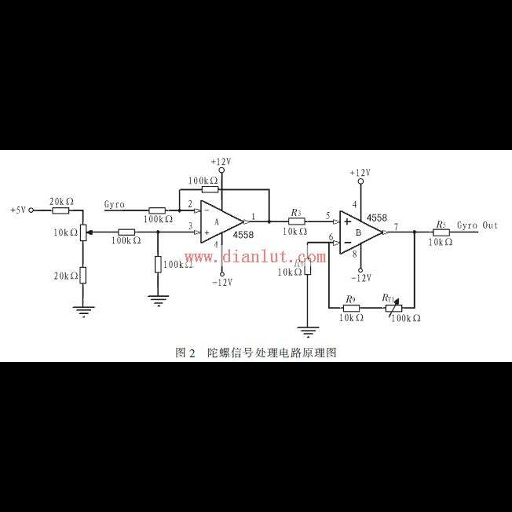amplifier: (338, 208, 384, 255), (199, 198, 244, 246)
firstresistance: (283, 215, 309, 226), (113, 227, 141, 237), (49, 205, 73, 216), (78, 264, 90, 286), (199, 184, 221, 195), (340, 303, 364, 313), (144, 206, 170, 215), (153, 253, 163, 276), (303, 256, 313, 278), (430, 228, 454, 237)
gnd: (293, 326, 324, 339), (70, 305, 98, 319), (145, 294, 172, 308)
